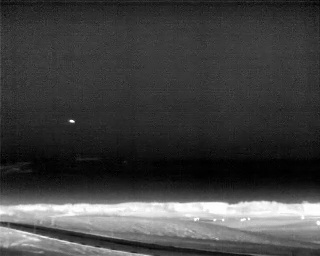BIRD: (67, 117, 77, 127)
